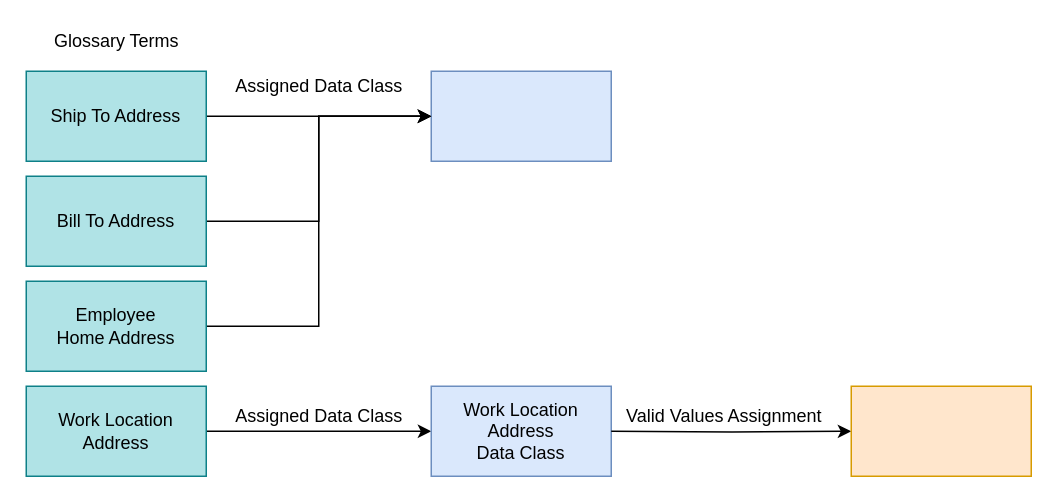
This 1058x503 diagram has some shape labels left out. The shapes that lost their labels are listed below. From the top down, each one's centre as x and y in pixels, then its label:
the point at 520,115: Address Data Class
the point at 940,430: Company Locations Valid Value Set
